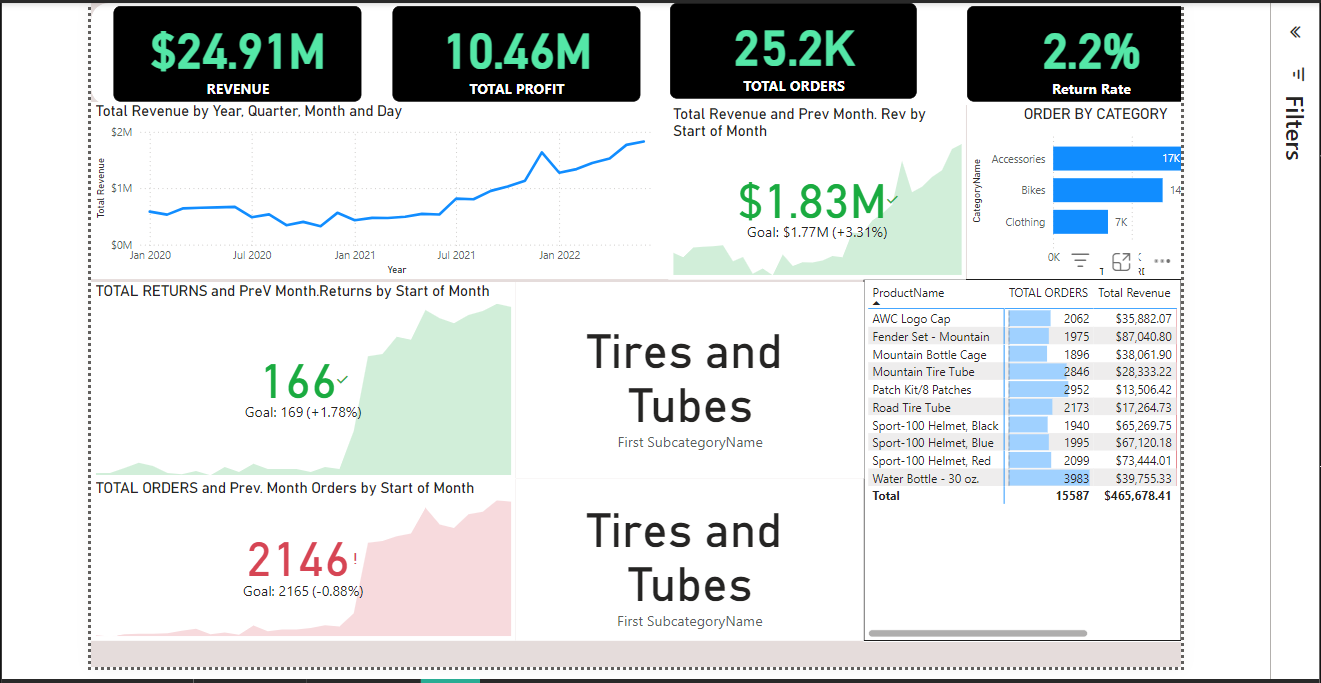

The page's visual inventory and layout, read from the dashboard file:
{"tool":"powerbi","page":{"name":"Page 1","canvas":[1232,750],"ordinal":0},"visuals":[{"type":"group","id":"g1","title":"Group 1","box":[0,0,1279.4,115.4],"z":0},{"type":"shape","box":[0,0,1279.4,115.4],"z":500,"group":"g1"},{"type":"card","fields":{"Values":["AW Customer.Return Rate"]},"box":[989.8,3,279.7,108.1],"z":1000,"group":"g1"},{"type":"clusteredBarChart","title":" ORDER BY CATEGORY","fields":{"Y":["AW sales.TOTAL ORDERS"],"Category":["AW Product Categories.CategoryName"]},"box":[988.9,115.4,290.5,199],"z":1000},{"type":"card","fields":{"Values":["AW sales.TOTAL ORDERS"]},"box":[653.5,0,279,107.7],"z":2000,"group":"g1"},{"type":"pivotTable","fields":{"Rows":["AW Product.ProductName"],"Values":["AW sales.TOTAL ORDERS","AW Calendar.Total Revenue","AW Customer.Return Rate"]},"box":[873.2,311,358.8,409.7],"z":2000},{"type":"card","fields":{"Values":["AW sales.TOTAL PROFIT"]},"box":[339.7,3,279.7,108.1],"z":3000,"group":"g1"},{"type":"lineChart","fields":{"Category":["AW Calendar.Start of Month.Variation.Date Hierarchy.Year","AW Calendar.Start of Month.Variation.Date Hierarchy.Quarter","AW Calendar.Start of Month.Variation.Date Hierarchy.Month","AW Calendar.Start of Month.Variation.Date Hierarchy.Day"],"Y":["AW Calendar.Total Revenue"]},"box":[0,111.8,653.1,199.8],"z":3000},{"type":"card","fields":{"Values":["AW Calendar.Total Revenue"]},"box":[25,3,279.7,108.1],"z":4000,"group":"g1"},{"type":"kpi","fields":{"Goal":["AW sales.PreV Month.Returns"],"Indicator":["AW Returns Data.TOTAL RETURNS"],"TrendLine":["AW Calendar.Start of Month"]},"box":[0,314.4,479.5,222.8],"z":4000},{"type":"kpi","fields":{"Indicator":["AW sales.TOTAL ORDERS"],"Goal":["AW sales.Prev. Month Orders"],"TrendLine":["AW Calendar.Start of Month"]},"box":[0,537.2,479.5,183],"z":5000},{"type":"kpi","fields":{"TrendLine":["AW Calendar.Start of Month"],"Indicator":["AW Calendar.Total Revenue"],"Goal":["AW sales.Prev Month. Rev"]},"box":[653,115,336,197],"z":6000},{"type":"card","fields":{"Values":["Min(AW Product Subcategories.SubcategoryName)"]},"box":[479,314.8,393.9,222.3],"z":7000},{"type":"card","fields":{"Values":["Min(AW Product Subcategories.SubcategoryName)"]},"box":[480,537,393,183],"z":8000}]}

Visuals, with their boxes on the page's 1232x750 design canvas (x1, y1, x2, y2). These are canvas units, not pixel positions in the 1321x683 screenshot, which may show the page scaled, cropped or inside an application window:
"Group 1" group: [0,0,1279,115]
shape: [0,0,1279,115]
card - AW Customer.Return Rate: [990,3,1270,111]
" ORDER BY CATEGORY" clusteredBarChart: [989,115,1279,314]
card - AW sales.TOTAL ORDERS: [654,0,932,108]
pivotTable - AW Product.ProductName x AW sales.TOTAL ORDERS: [873,311,1232,721]
card - AW sales.TOTAL PROFIT: [340,3,619,111]
lineChart - AW Calendar.Start of Month.Variation.Date Hierarchy.Year x AW Calendar.Start of Month.Variation.Date Hierarchy.Quarter: [0,112,653,312]
card - AW Calendar.Total Revenue: [25,3,305,111]
kpi - AW sales.PreV Month.Returns x AW Returns Data.TOTAL RETURNS: [0,314,480,537]
kpi - AW sales.TOTAL ORDERS x AW sales.Prev. Month Orders: [0,537,480,720]
kpi - AW Calendar.Start of Month x AW Calendar.Total Revenue: [653,115,989,312]
card - Min(AW Product Subcategories.SubcategoryName): [479,315,873,537]
card - Min(AW Product Subcategories.SubcategoryName): [480,537,873,720]
